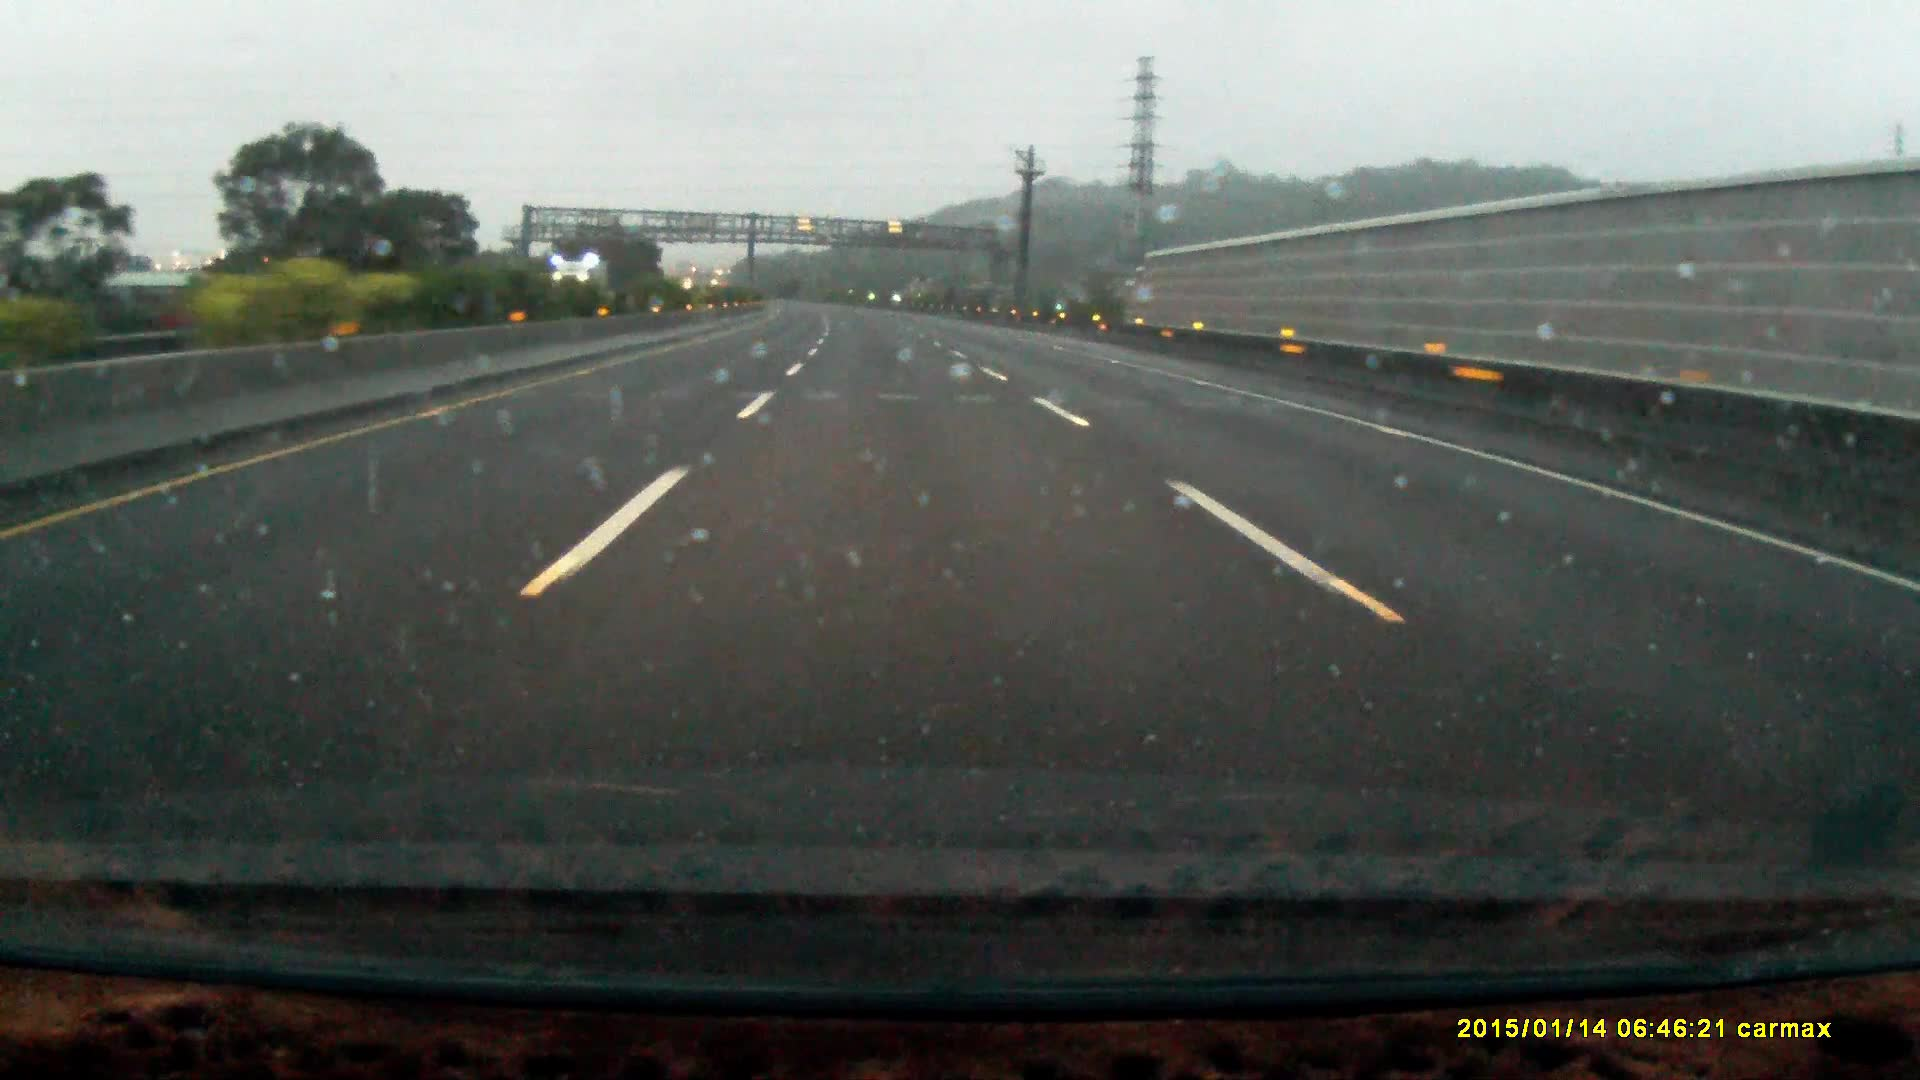vehicle: (550, 260, 607, 316)
